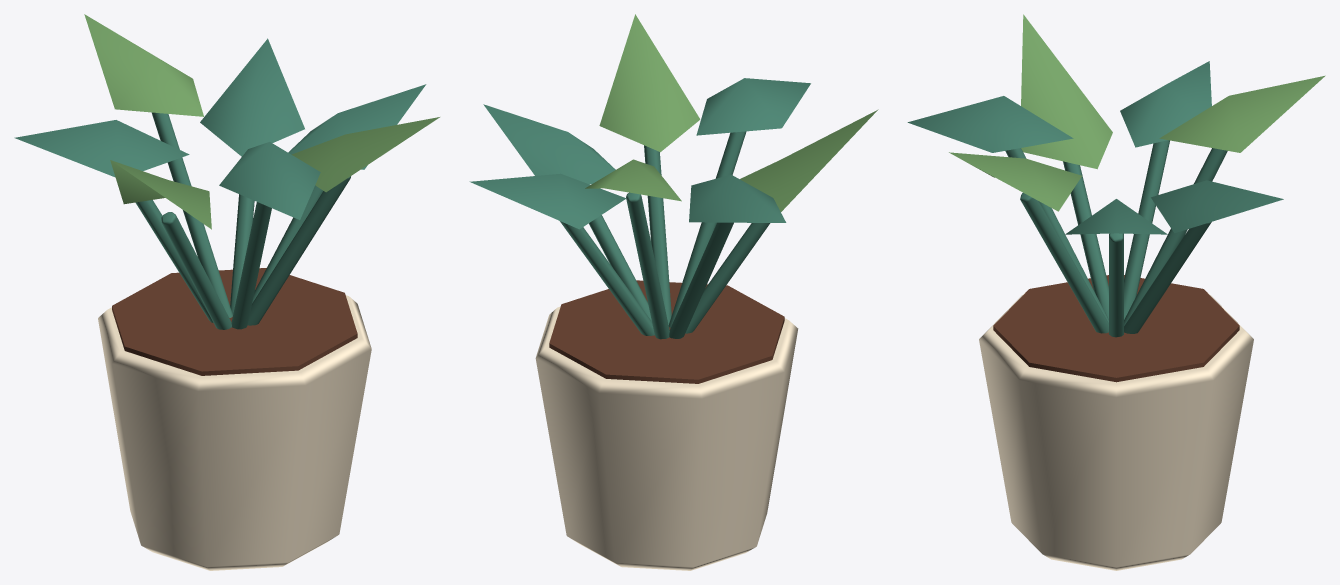
Rendered from planter.glb.
The picture shows the model from 3 angles, left to right: view 1: azimuth 30°, elevation 25°; view 2: azimuth 150°, elevation 25°; view 3: azimuth 270°, elevation 25°; orthographic projection. The views are drawn at different scales.
Parts seen in each view (by area): view 1: planter; view 2: planter; view 3: planter.
Boxes of the visible parts, x1=… form: planter: x1=14, y1=14, x2=439, y2=570; planter: x1=469, y1=14, x2=878, y2=570; planter: x1=907, y1=14, x2=1325, y2=570.
Size of the model in its own units: 1.03 by 1.21 by 1.05.
